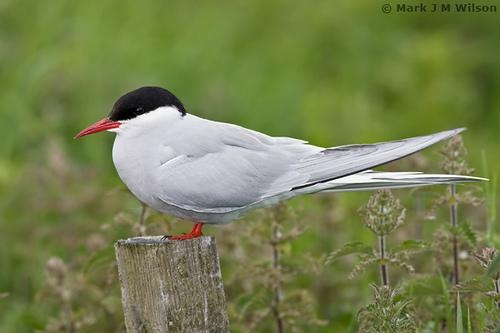bird: (66, 87, 493, 242)
